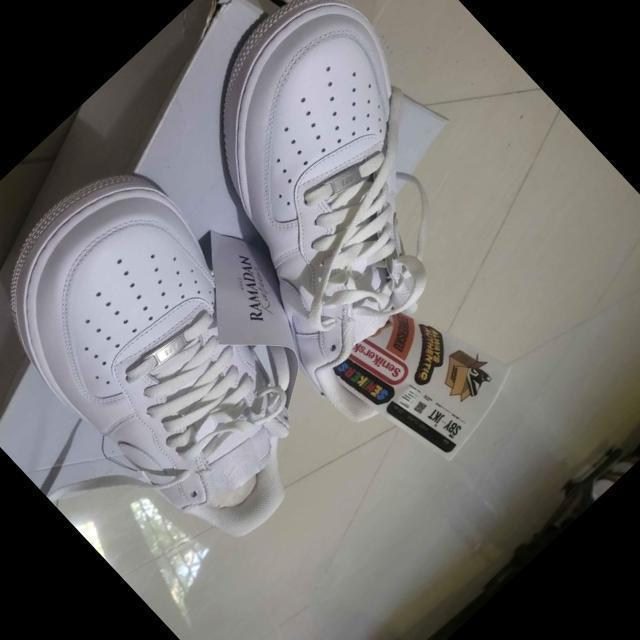nike original air force: (103, 0, 570, 433), (0, 136, 386, 577)
